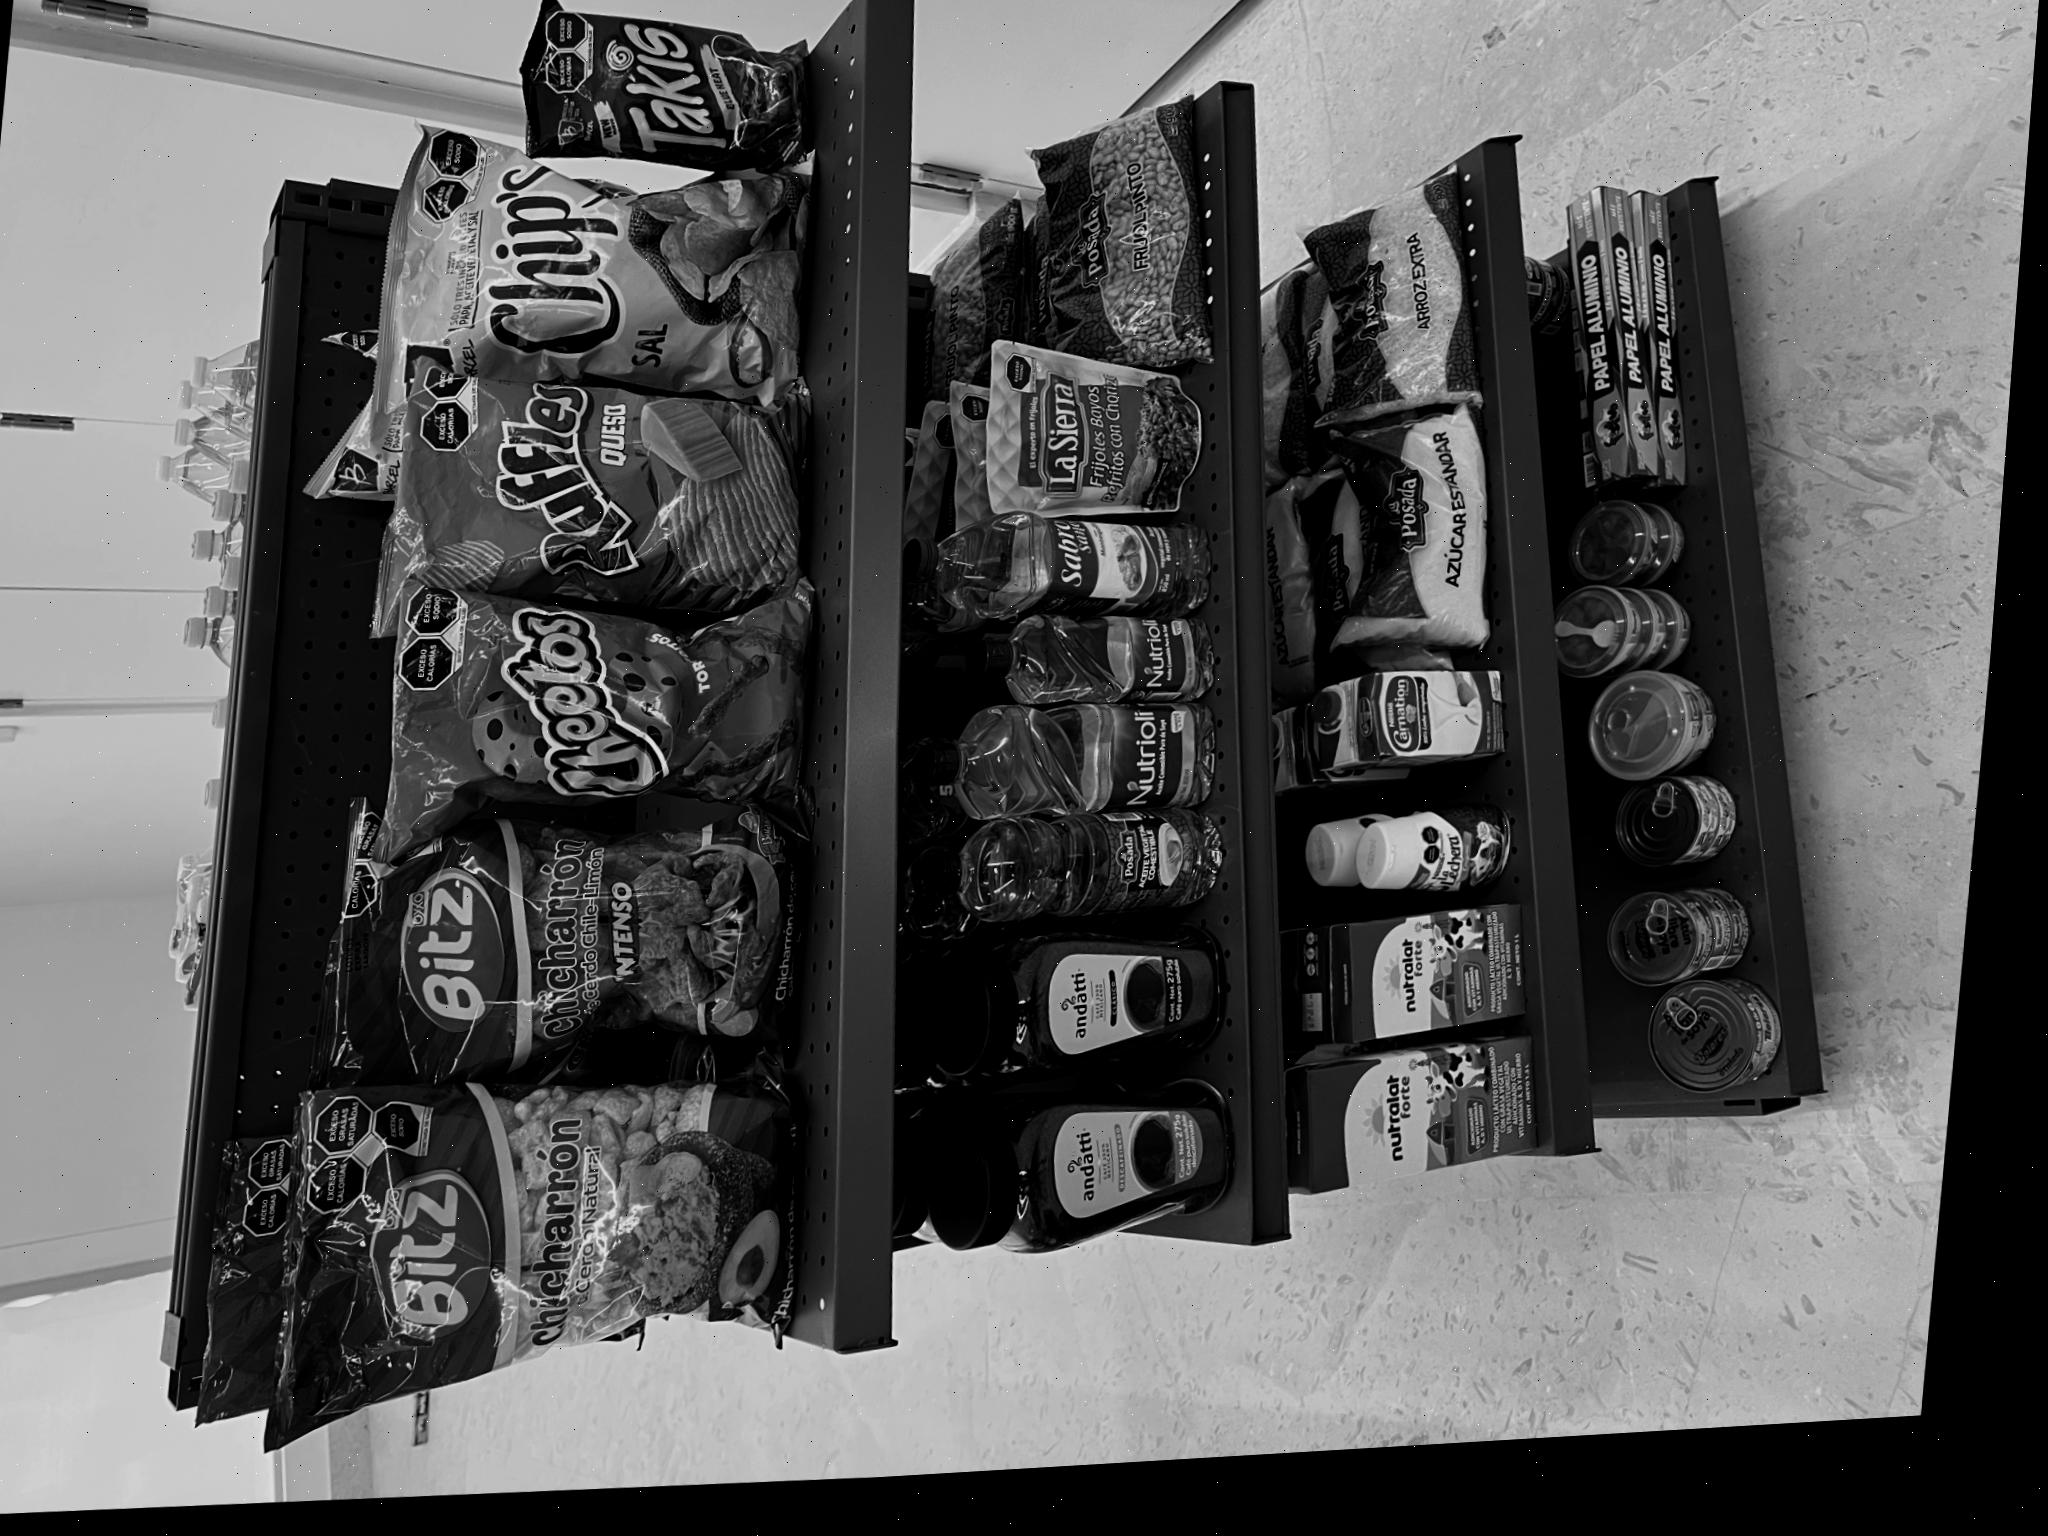aceite_nutrioli_400ml: (672, 970, 777, 1220)
aceite_nutrioli_850ml: (561, 936, 692, 1231)
aceite_posada: (453, 949, 584, 1250)
aceite_saborsano: (771, 897, 877, 1204)
andatti: (108, 1013, 306, 1300), (293, 989, 460, 1275)
arroz_laposada: (932, 1270, 1158, 1431)
azucar_laposada: (692, 1329, 929, 1484)
carnation: (569, 1342, 669, 1491)
cheetos: (616, 390, 856, 818)
chicharron_bitz_intenso: (352, 357, 651, 850)
chicharron_bitz_natural: (42, 361, 390, 876)
chips_sal: (1063, 326, 1297, 755)
frijol_laposada: (1029, 992, 1285, 1146)
frijol_lasierra: (864, 963, 1018, 1175)
lalechera: (435, 1392, 534, 1497)
leche_nutralatforte: (147, 1375, 295, 1510), (295, 1365, 437, 1504)
ruffles: (850, 355, 1084, 797)
takis: (1285, 449, 1424, 741)
